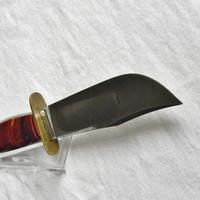knife: (2, 71, 187, 151)
